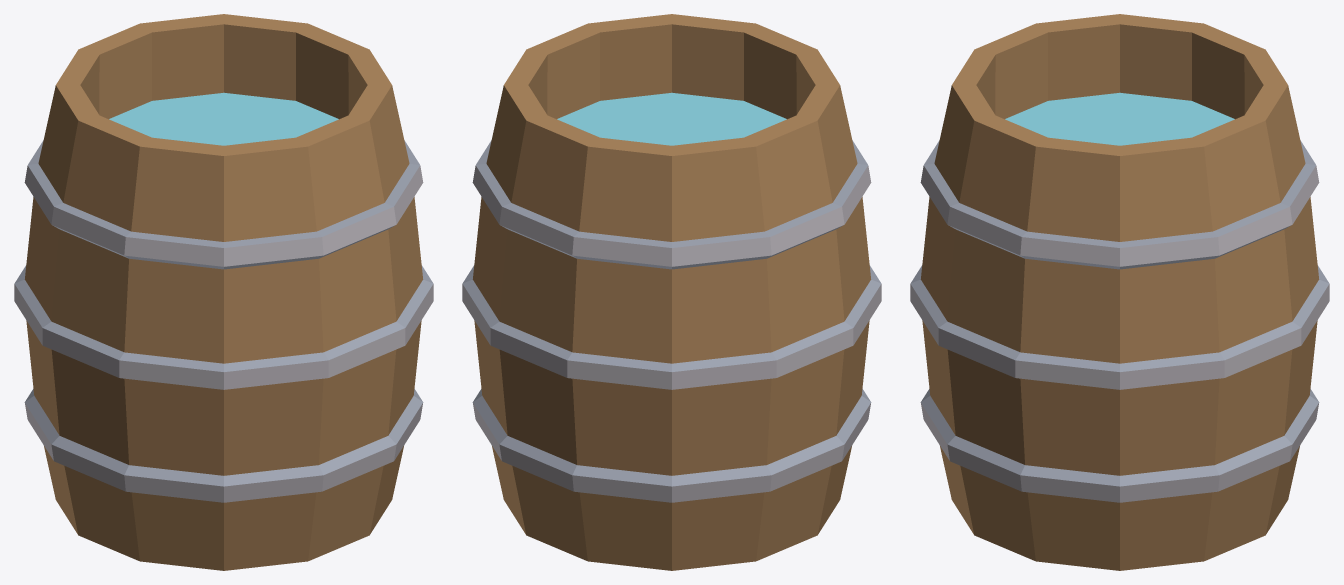
File: barrel_water.fbx
The picture shows the model from 3 angles, left to right: view 1: azimuth 30°, elevation 25°; view 2: azimuth 150°, elevation 25°; view 3: azimuth 270°, elevation 25°; orthographic projection.
Visible parts, largest first — view 1: barrel_water; view 2: barrel_water; view 3: barrel_water.
Part boxes in pixels (x1=…): barrel_water: x1=14, y1=14, x2=433, y2=570; barrel_water: x1=462, y1=14, x2=881, y2=570; barrel_water: x1=910, y1=14, x2=1329, y2=570.
Bounding box in the file's own units: 380 × 415 × 380.
